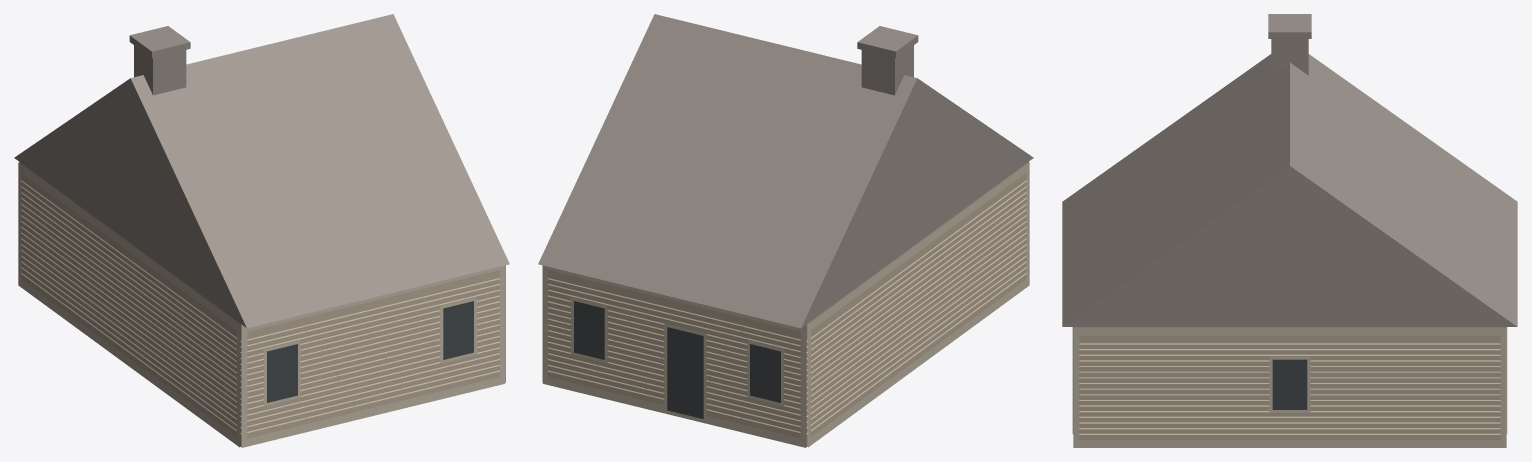
File: recon_1835_blk_south_water_dearborn_d5_01__inferred_1835.glb
3 renders of one model, left to right at view 1: azimuth 30°, elevation 25°; view 2: azimuth 150°, elevation 25°; view 3: azimuth 270°, elevation 25°, orthographic. The views are drawn at different scales.
Visible parts, largest first — view 1: recon_1835_blk_south_water_dearborn_d5_01__inferred_1835; view 2: recon_1835_blk_south_water_dearborn_d5_01__inferred_1835; view 3: recon_1835_blk_south_water_dearborn_d5_01__inferred_1835.
Boxes of the visible parts, left/top/right/bottom form: recon_1835_blk_south_water_dearborn_d5_01__inferred_1835: left=14, top=14, right=509, bottom=447; recon_1835_blk_south_water_dearborn_d5_01__inferred_1835: left=538, top=14, right=1033, bottom=447; recon_1835_blk_south_water_dearborn_d5_01__inferred_1835: left=1062, top=14, right=1517, bottom=447.
Size of the model in its own units: 6.75 by 7.77 by 10.24.
